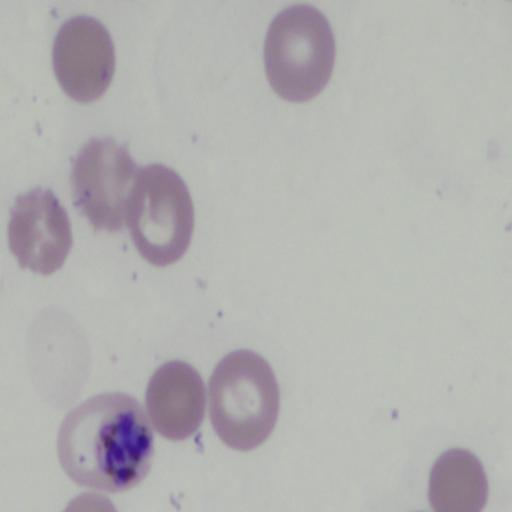Infected: (58, 393, 154, 491)
Uninfected: (209, 351, 281, 449), (263, 6, 333, 102), (69, 138, 141, 230), (129, 165, 193, 264), (53, 16, 116, 104), (11, 186, 71, 274), (147, 361, 207, 440), (430, 448, 488, 512)
